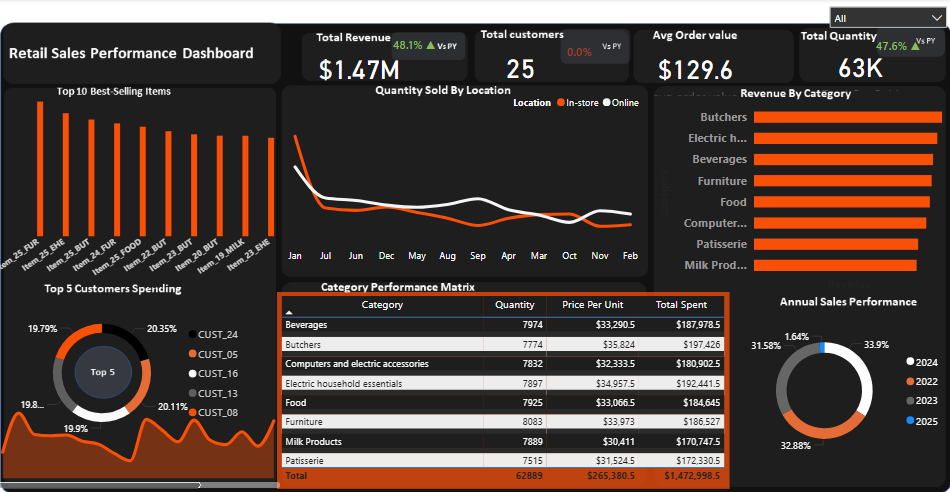

The page's visual inventory and layout, read from the dashboard file:
{"tool":"powerbi","page":{"name":"Page 1","canvas":[1280,720],"ordinal":0},"visuals":[{"type":"card","fields":{"Values":["dax Measures.Revenue"]},"box":[420.9,66.6,163,43.9],"z":0},{"type":"card","fields":{"Values":["dax Measures.Total Qty Sold"]},"box":[1072.9,68,150.2,55.3],"z":1000},{"type":"card","fields":{"Values":["dax Measures.avg order value"]},"box":[857.5,68,155.9,60.9],"z":2000},{"type":"card","fields":{"Values":["dax Measures.Total customers"]},"box":[630.7,51,158.7,72.3],"z":3000},{"type":"clusteredBarChart","fields":{"Y":["dax Measures.Revenue"],"Category":["retail_store_sales2345.Category"]},"box":[883,121.9,379.8,259.4],"z":4000},{"type":"tableEx","fields":{"Values":["retail_store_sales2345.Category","Sum(retail_store_sales2345.Quantity)","Sum(retail_store_sales2345.Price Per Unit)","Sum(retail_store_sales2345.Total Spent)"]},"box":[395.7,377.5,583.8,254.3],"z":5000},{"type":"lineChart","fields":{"Y":["dax Measures.Total Qty Sold"],"Series":["retail_store_sales2345.Location"],"Category":["Calendar.Month"]},"box":[398.5,113.5,474.2,235.6],"z":6000},{"type":"areaChart","fields":{"Category":["retail_store_sales2345.Customer ID"],"Y":["dax Measures.Revenue"]},"box":[31.1,516.3,385.3,123.2],"z":7000},{"type":"donutChart","fields":{"Y":["dax Measures.Revenue"],"Category":["retail_store_sales2345.Customer ID"]},"box":[54.5,386.6,306.2,190.7],"z":8000},{"type":"columnChart","fields":{"Category":["retail_store_sales2345.Item"],"Y":["dax Measures.Revenue"]},"box":[28.3,87.9,389.8,293.4],"z":9000},{"type":"slicer","fields":{"Values":["retail_store_sales2345.Payment Method"]},"box":[1098.8,0,171.2,41.5],"z":10000},{"type":"donutChart","fields":{"Y":["dax Measures.Revenue"],"Category":["Calendar.Year"]},"box":[992.4,377.5,271.1,254.3],"z":11000},{"type":"cardVisual","fields":{"Data":["dax Measures.YOY Sales"]},"box":[514.5,0,126.1,114.8],"z":12000},{"type":"cardVisual","fields":{"Data":["dax Measures.YOY Qty"]},"box":[1138.1,29.8,130.4,58.1],"z":13000},{"type":"cardVisual","fields":{"Data":["dax Measures.YOY Customers"]},"box":[739,12.7,134,108.7],"z":14000}]}

Visuals, with their boxes on the page's 1280x720 design canvas (x1, y1, x2, y2). These are canvas units, not pixel positions in the 950x492 screenshot, which may show the page scaled, cropped or inside an application window:
card - dax Measures.Revenue: [421,67,584,110]
card - dax Measures.Total Qty Sold: [1073,68,1223,123]
card - dax Measures.avg order value: [858,68,1013,129]
card - dax Measures.Total customers: [631,51,789,123]
clusteredBarChart - dax Measures.Revenue x retail_store_sales2345.Category: [883,122,1263,381]
tableEx - retail_store_sales2345.Category x Sum(retail_store_sales2345.Quantity): [396,378,980,632]
lineChart - dax Measures.Total Qty Sold x retail_store_sales2345.Location: [398,114,873,349]
areaChart - retail_store_sales2345.Customer ID x dax Measures.Revenue: [31,516,416,640]
donutChart - dax Measures.Revenue x retail_store_sales2345.Customer ID: [54,387,361,577]
columnChart - retail_store_sales2345.Item x dax Measures.Revenue: [28,88,418,381]
slicer - retail_store_sales2345.Payment Method: [1099,0,1270,42]
donutChart - dax Measures.Revenue x Calendar.Year: [992,378,1264,632]
cardVisual - dax Measures.YOY Sales: [514,0,641,115]
cardVisual - dax Measures.YOY Qty: [1138,30,1268,88]
cardVisual - dax Measures.YOY Customers: [739,13,873,121]
